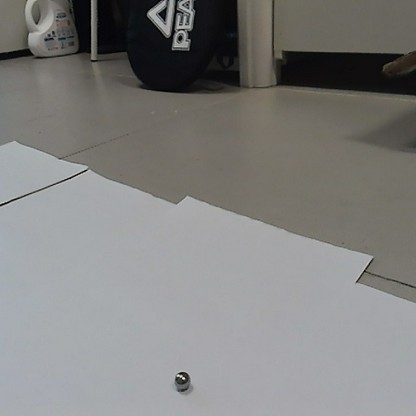ironball: (172, 368, 191, 392)
